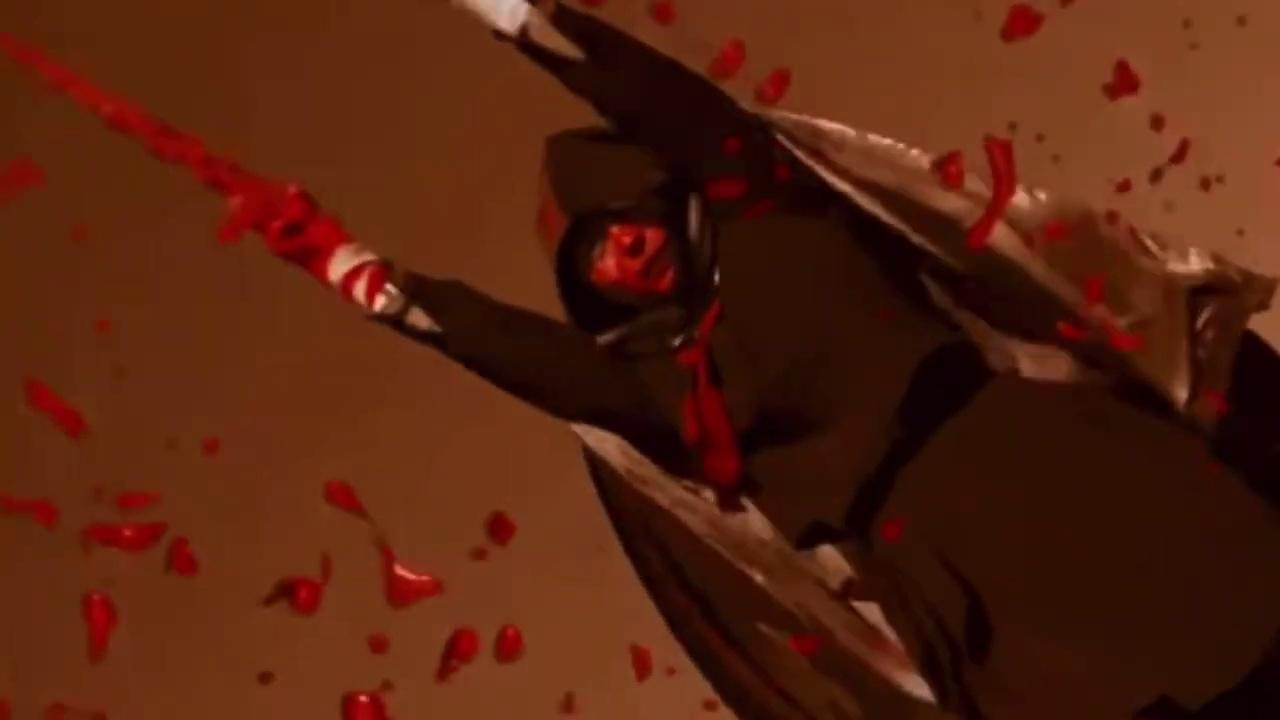Fire: (0, 32, 405, 314), (676, 298, 745, 509), (590, 223, 677, 302), (968, 133, 1018, 248), (375, 538, 443, 608), (261, 553, 331, 616), (24, 377, 88, 437), (80, 590, 117, 664), (80, 522, 167, 552), (435, 629, 479, 682), (0, 494, 58, 528), (323, 479, 370, 520), (1104, 56, 1144, 100), (1002, 2, 1047, 41), (708, 36, 747, 80), (756, 66, 793, 105), (933, 148, 966, 188), (341, 692, 387, 720), (494, 624, 525, 664), (485, 510, 517, 546), (114, 491, 159, 509), (652, 0, 677, 24)
